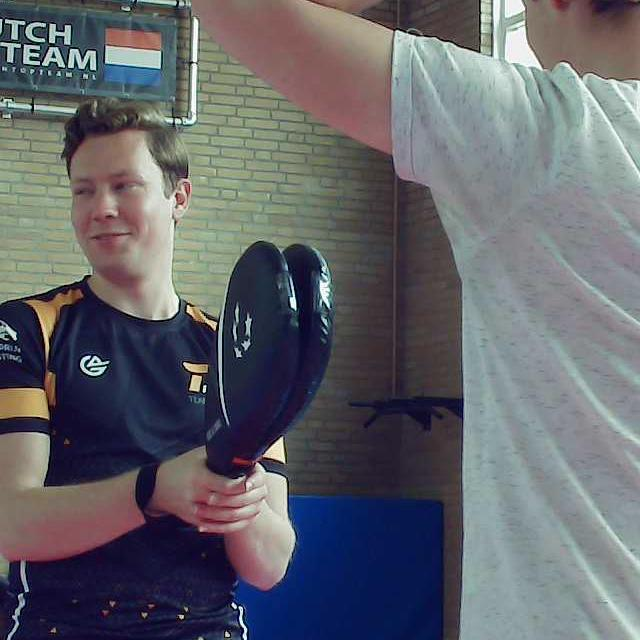paddle: (203, 241, 332, 477)
